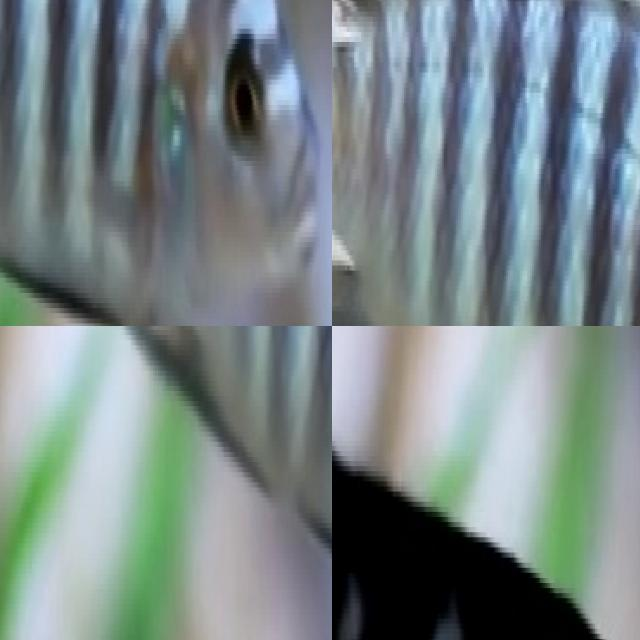fish: (0, 0, 332, 326), (332, 326, 640, 640)
